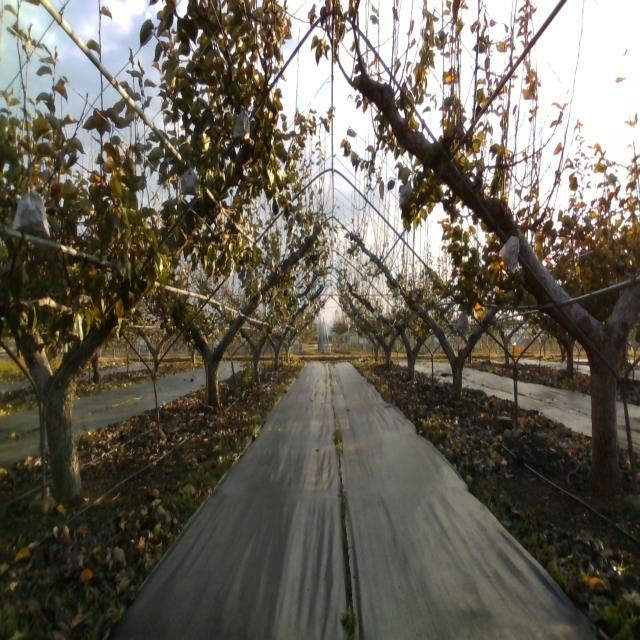pearbags: (13, 179, 50, 241), (498, 234, 522, 274), (180, 159, 201, 198), (232, 107, 250, 141), (398, 178, 414, 210), (456, 307, 470, 335), (286, 217, 298, 237)
